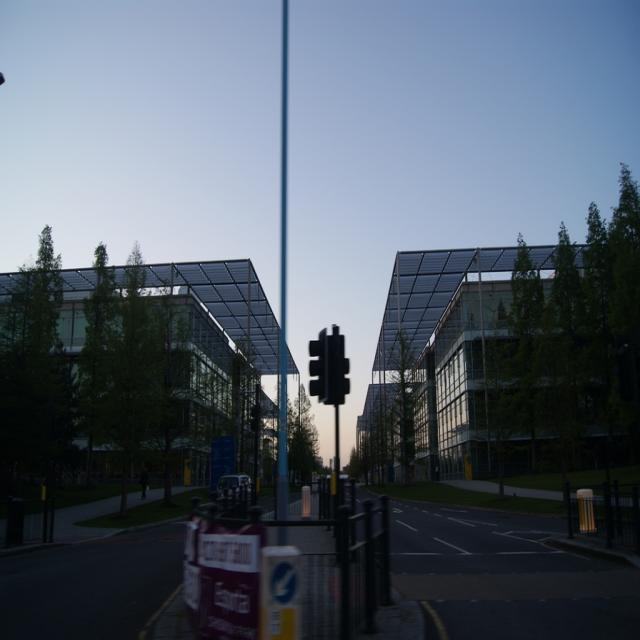off traffic light: (308, 327, 327, 404)
